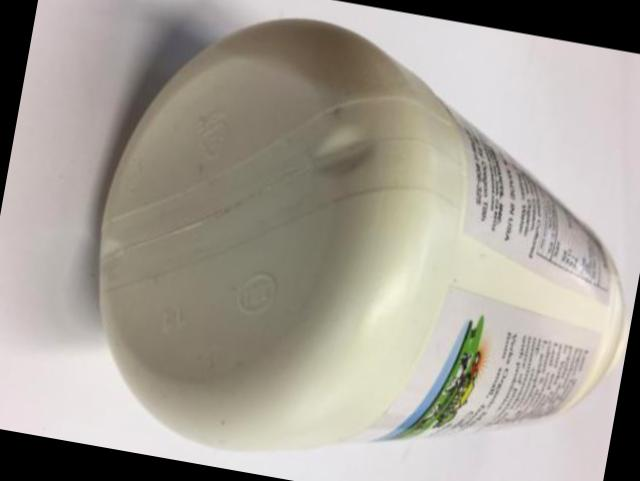plastic: (101, 21, 627, 450)
